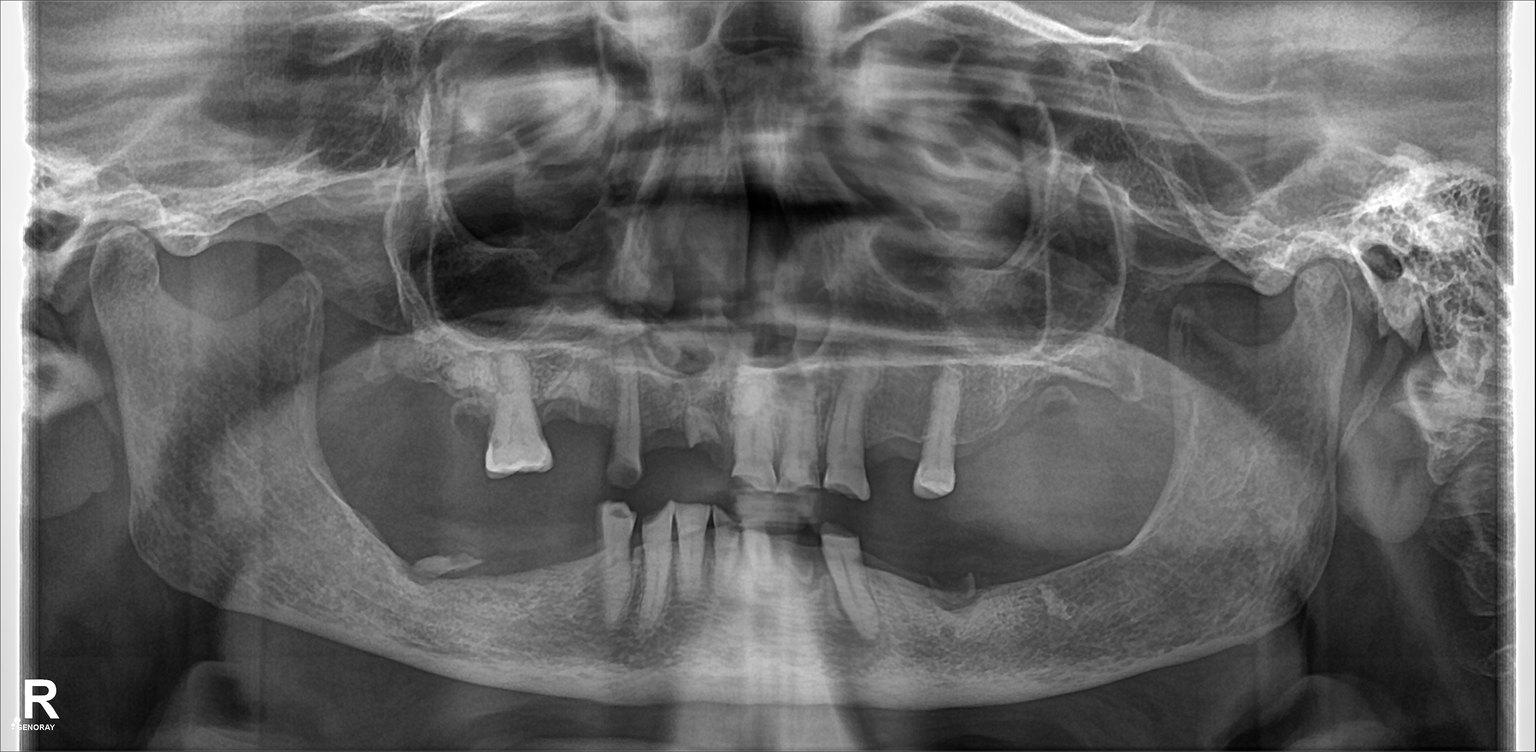Dental Caries: (778, 540, 827, 587), (609, 456, 642, 492), (810, 443, 836, 484)
Missing Tooth: (866, 395, 927, 489), (1112, 346, 1170, 431), (533, 519, 599, 593), (536, 365, 590, 448), (421, 335, 463, 439), (868, 530, 913, 627), (328, 449, 374, 539), (1017, 361, 1058, 460), (335, 320, 378, 414), (486, 516, 535, 596), (1067, 359, 1111, 448), (968, 378, 1010, 465), (991, 523, 1038, 599), (641, 378, 679, 471), (384, 324, 417, 422), (387, 475, 420, 572), (1048, 523, 1086, 596), (1102, 516, 1138, 591), (1147, 503, 1177, 569)
Retained Root: (415, 491, 478, 585), (918, 519, 982, 611), (685, 376, 737, 475)
